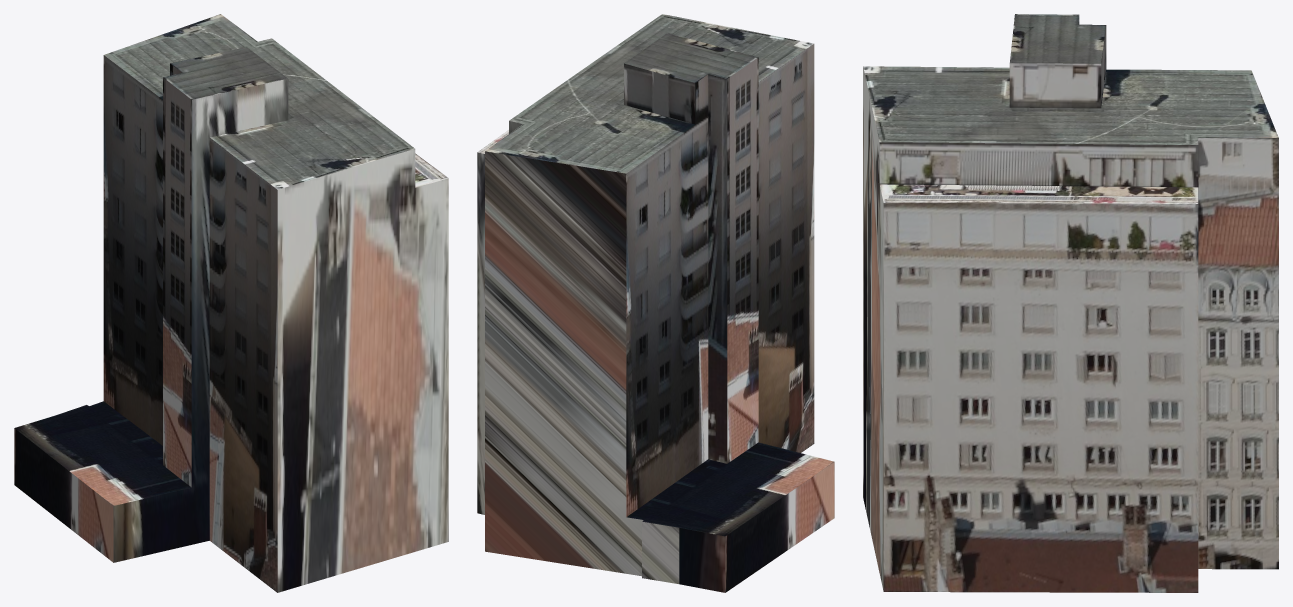
3 views of the same model, side by side, from view 1: azimuth 30°, elevation 25°; view 2: azimuth 150°, elevation 25°; view 3: azimuth 270°, elevation 25° (orthographic). The views are drawn at different scales.
Visible parts, largest first — view 1: Z_UP; view 2: Z_UP; view 3: Z_UP.
Part boxes in pixels (x1=…): Z_UP: x1=14, y1=14, x2=448, y2=592; Z_UP: x1=477, y1=14, x2=834, y2=592; Z_UP: x1=863, y1=14, x2=1278, y2=592.
Size of the model in its own units: 19.98 by 30.89 by 24.46.
2 materials, 1 textured.
